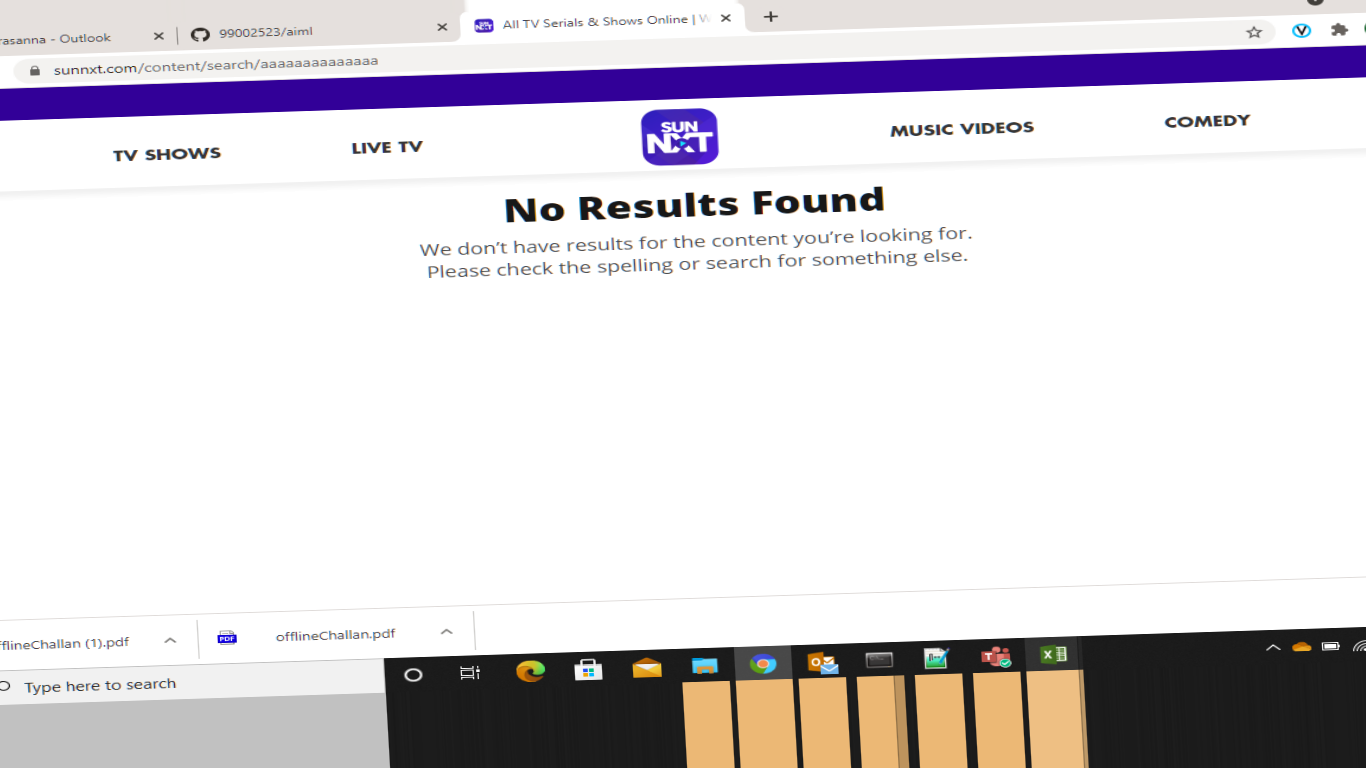noresultsfound: (361, 183, 981, 308)
